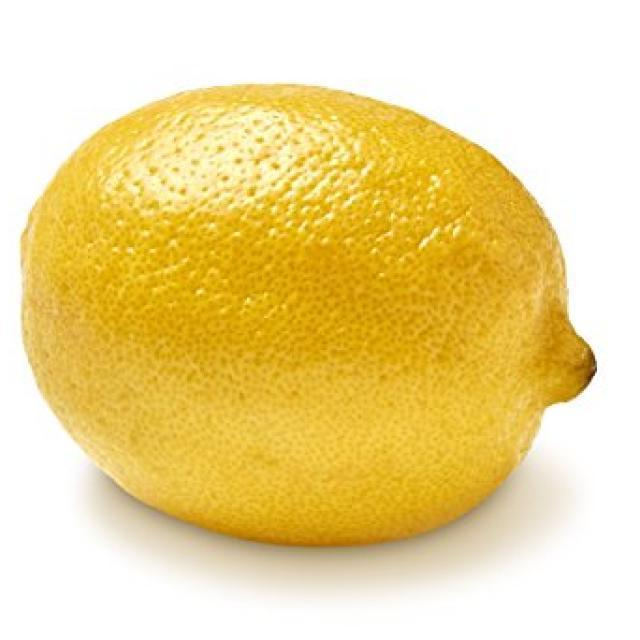lemon: (9, 67, 603, 570)
